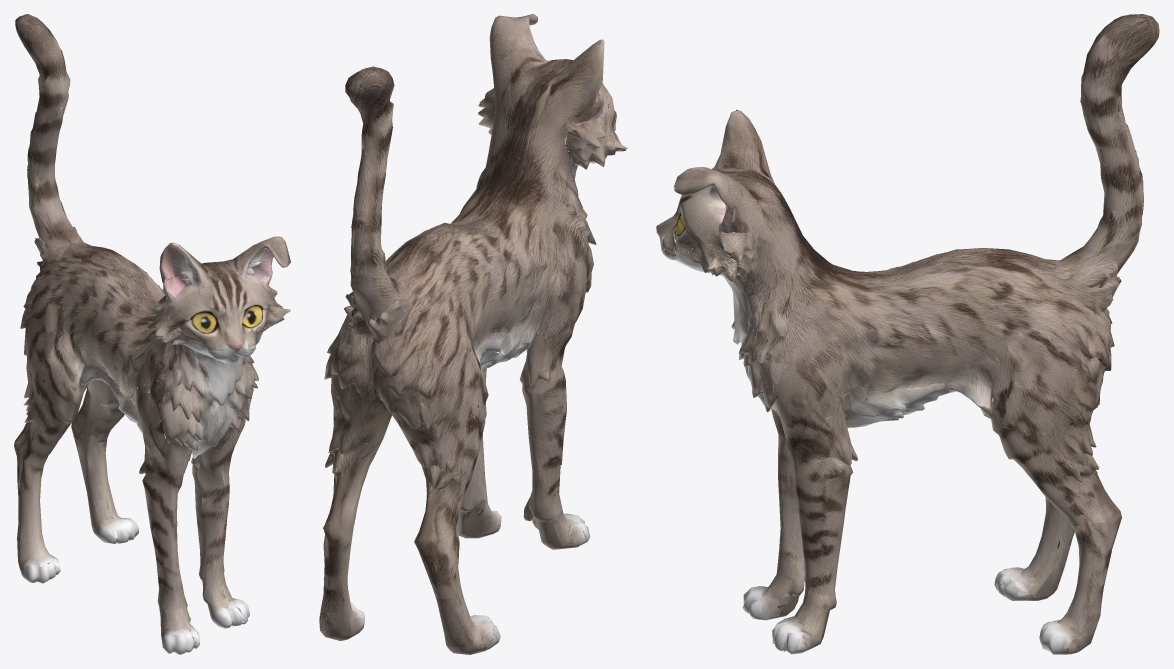
File: cat.glb
3 renders of one model, left to right at view 1: azimuth 30°, elevation 25°; view 2: azimuth 150°, elevation 25°; view 3: azimuth 270°, elevation 25°, orthographic. The views are drawn at different scales.
Visible parts, largest first — view 1: V17_CAT__CAT_FINAL; view 2: V17_CAT__CAT_FINAL; view 3: V17_CAT__CAT_FINAL.
Part boxes in pixels (x1,y1,x2,y2): V17_CAT__CAT_FINAL: (14, 14, 290, 654); V17_CAT__CAT_FINAL: (319, 14, 627, 654); V17_CAT__CAT_FINAL: (656, 14, 1159, 654).
Bounding box in the file's own units: 0.1939 × 0.7004 × 0.5288.
1 material, 1 textured.
